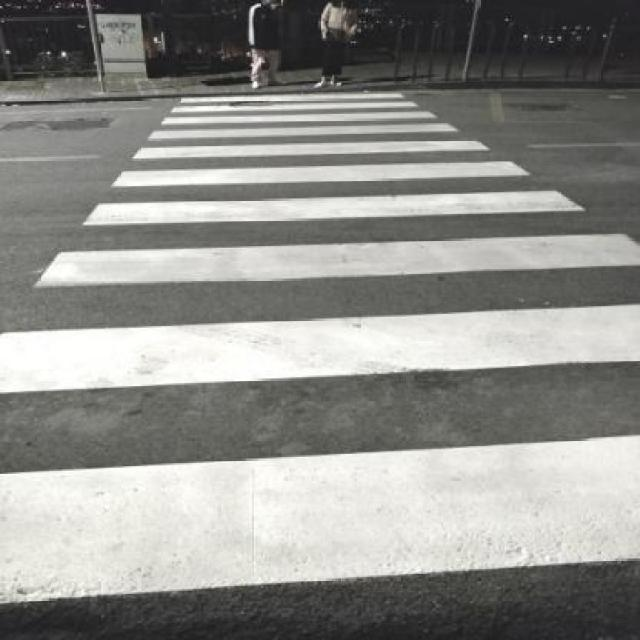crosswalk: (0, 92, 640, 603)
